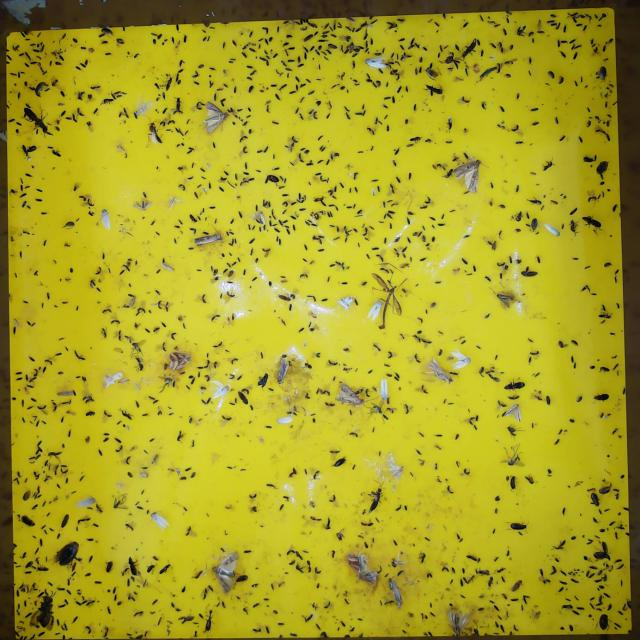Amblypsylopus sp: (502, 443, 526, 471), (504, 425, 526, 441), (134, 356, 152, 371), (586, 190, 602, 206), (132, 341, 151, 354), (239, 383, 256, 395), (373, 402, 387, 414)
Carpelimus sp: (388, 536, 404, 548), (432, 430, 446, 443), (207, 139, 221, 152), (389, 173, 404, 185), (487, 526, 498, 542), (274, 504, 290, 515), (438, 221, 450, 234), (419, 533, 433, 544), (313, 132, 328, 142), (216, 187, 228, 198), (338, 180, 348, 193), (262, 144, 274, 154), (243, 548, 257, 556), (252, 601, 262, 611)
Cofana spectra: (209, 382, 232, 407), (544, 220, 566, 242), (99, 368, 122, 389), (150, 510, 172, 530), (99, 207, 116, 231), (362, 56, 386, 72), (455, 351, 473, 371), (377, 378, 394, 398), (369, 300, 382, 323), (75, 496, 95, 507)
Hydrophilus piceus: (55, 540, 83, 565), (599, 612, 614, 636), (596, 160, 613, 181), (199, 14, 215, 29)
Ostrinia sp atau Crocidophora sp: (211, 553, 243, 588), (347, 556, 380, 588), (384, 577, 414, 609), (204, 100, 230, 136), (461, 160, 489, 192), (426, 357, 452, 384), (339, 386, 368, 410), (191, 234, 228, 250), (448, 612, 472, 634), (494, 288, 515, 312)
Tipula sayi: (375, 270, 411, 328)
